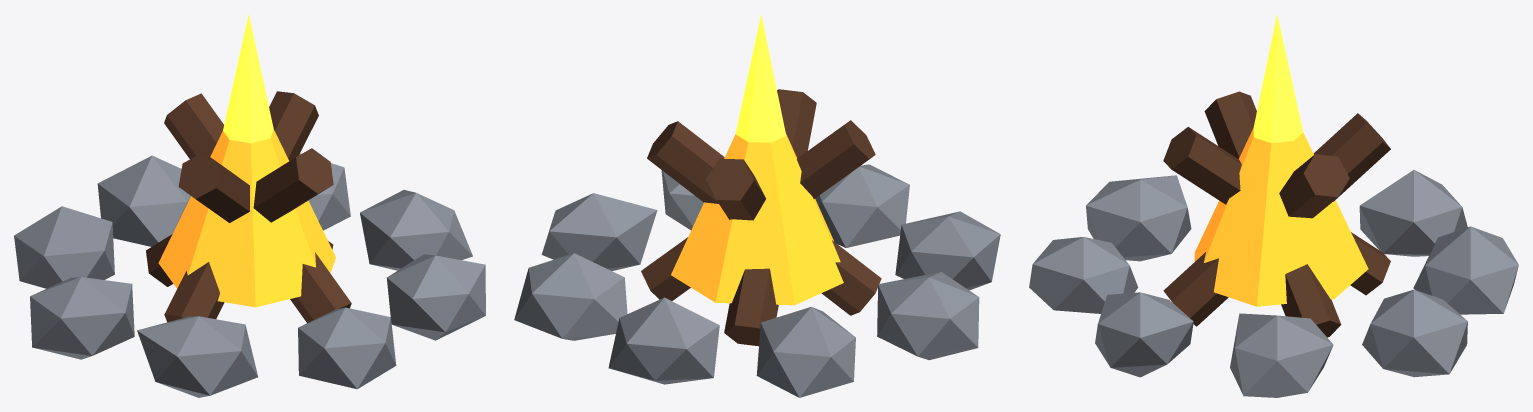
Rendered from campfire.glb.
The picture shows the model from 3 angles, left to right: view 1: azimuth 30°, elevation 25°; view 2: azimuth 150°, elevation 25°; view 3: azimuth 270°, elevation 25°; orthographic projection.
Visible parts, largest first — view 1: campfire; view 2: campfire; view 3: campfire.
Boxes of the visible parts, bbox=[...] form: campfire: bbox=[14, 14, 485, 397]; campfire: bbox=[514, 14, 1000, 397]; campfire: bbox=[1029, 14, 1518, 397].
Bounding box in the file's own units: 1.39 × 0.9588 × 1.39.
